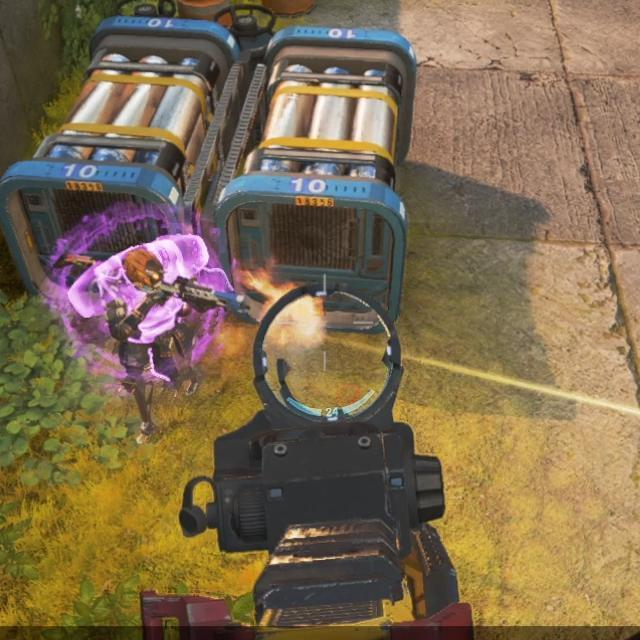avatar: (103, 245, 194, 446)
